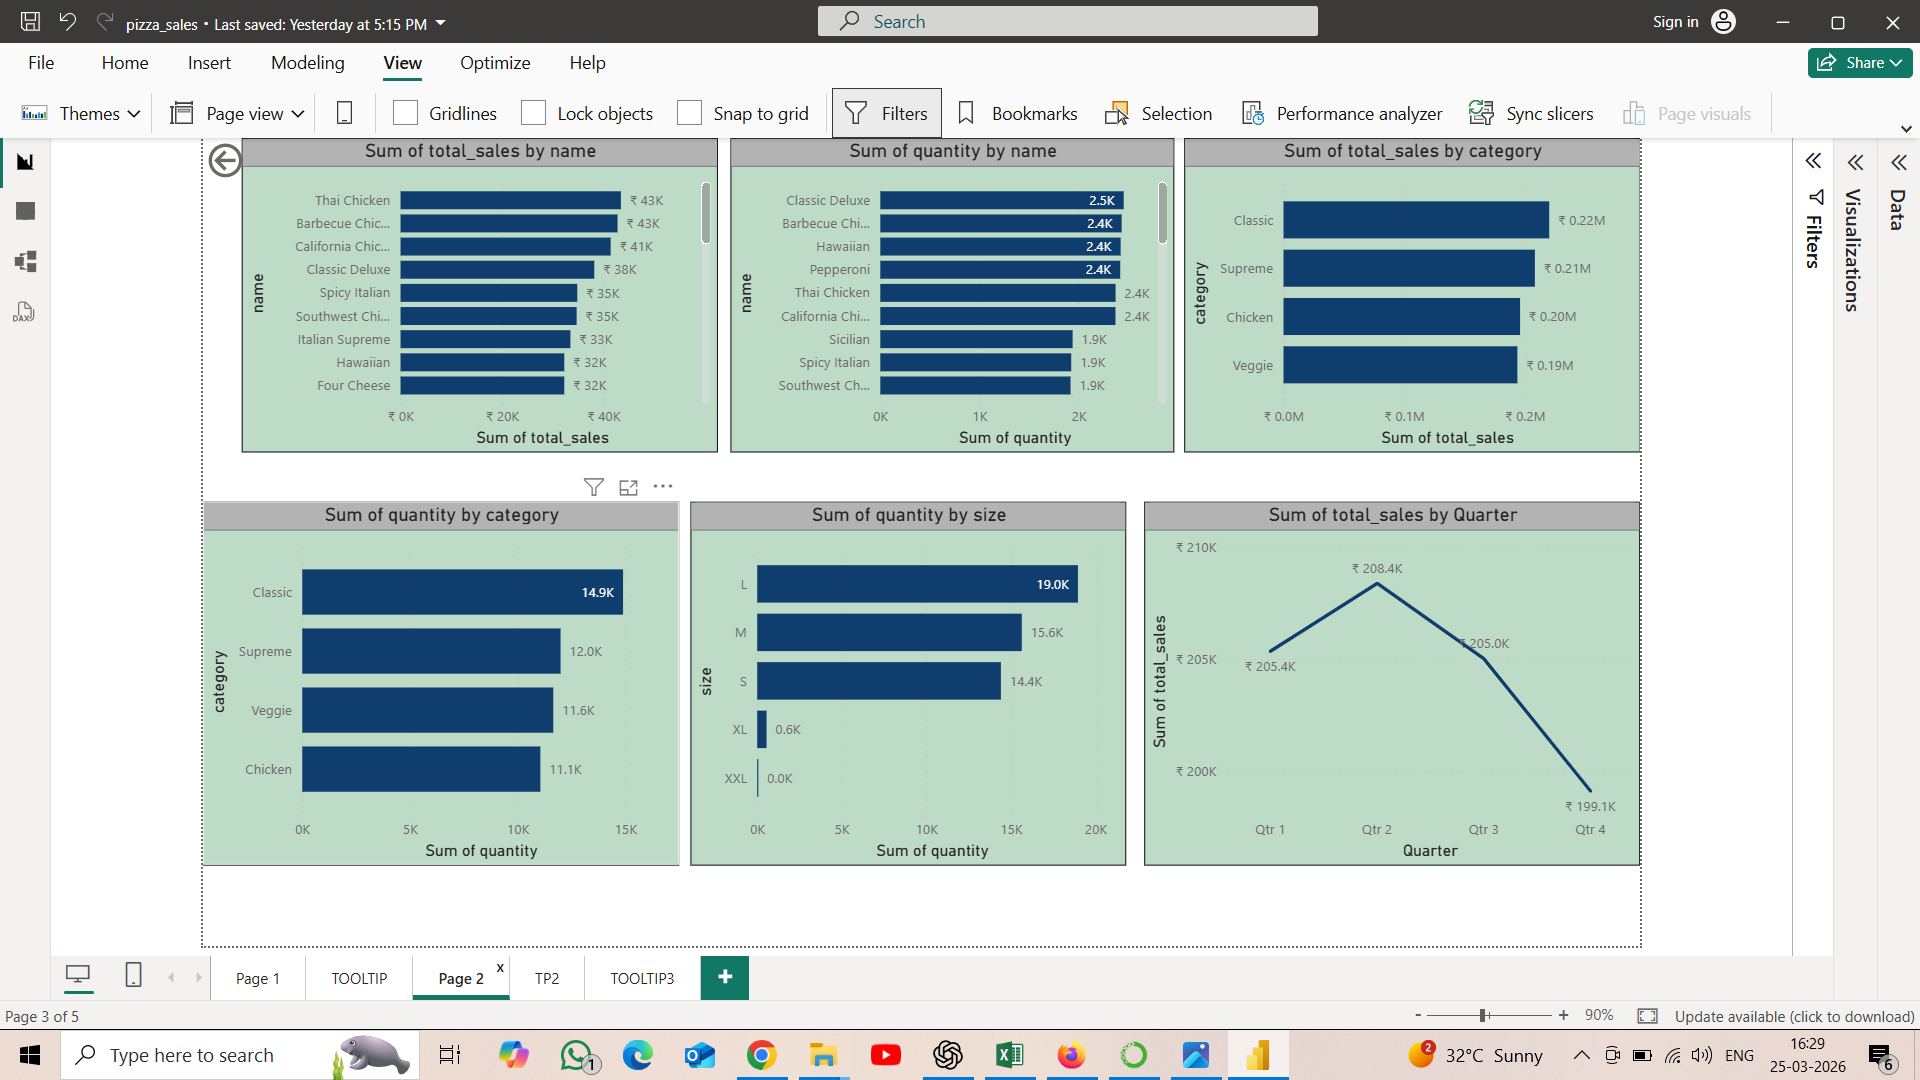

Layout of this report page (visuals, bound fields, positions):
{"tool":"powerbi","page":{"name":"Page 2","canvas":[1280,720],"ordinal":2},"visuals":[{"type":"barChart","fields":{"Y":["Sum(order_details.total_sales)"],"Category":["pizza_types.name"]},"box":[34.3,0,424,279.9],"z":0},{"type":"barChart","fields":{"Category":["pizza_types.category"],"Y":["Sum(order_details.total_sales)"]},"box":[874.1,0,406.2,279.9],"z":1000},{"type":"barChart","fields":{"Y":["Sum(order_details.quantity)"],"Category":["pizza_types.name"]},"box":[469.3,0,395.2,279.9],"z":2000},{"type":"barChart","fields":{"Y":["Sum(order_details.quantity)"],"Category":["pizza_types.category"]},"box":[0,323.8,424,323.8],"z":3000},{"type":"lineChart","fields":{"Y":["Sum(order_details.total_sales)"],"Category":["orders.date.Variation.Date Hierarchy.Year","orders.date.Variation.Date Hierarchy.Quarter","orders.date.Variation.Date Hierarchy.Month","orders.date.Variation.Date Hierarchy.Day"]},"box":[838.4,323.8,441.9,323.8],"z":4000},{"type":"barChart","fields":{"Category":["pizzas.size"],"Y":["Sum(order_details.quantity)"]},"box":[433.6,323.8,388.3,323.8],"z":5000},{"type":"actionButton","box":[0,0,100,40],"z":6000}]}

Visuals, with their boxes on the page's 1280x720 design canvas (x1, y1, x2, y2). These are canvas units, not pixel positions in the 1920x1080 screenshot, which may show the page scaled, cropped or inside an application window:
barChart - Sum(order_details.total_sales) x pizza_types.name: 34/0/458/280
barChart - pizza_types.category x Sum(order_details.total_sales): 874/0/1280/280
barChart - Sum(order_details.quantity) x pizza_types.name: 469/0/864/280
barChart - Sum(order_details.quantity) x pizza_types.category: 0/324/424/648
lineChart - Sum(order_details.total_sales) x orders.date.Variation.Date Hierarchy.Year: 838/324/1280/648
barChart - pizzas.size x Sum(order_details.quantity): 434/324/822/648
actionButton: 0/0/100/40
